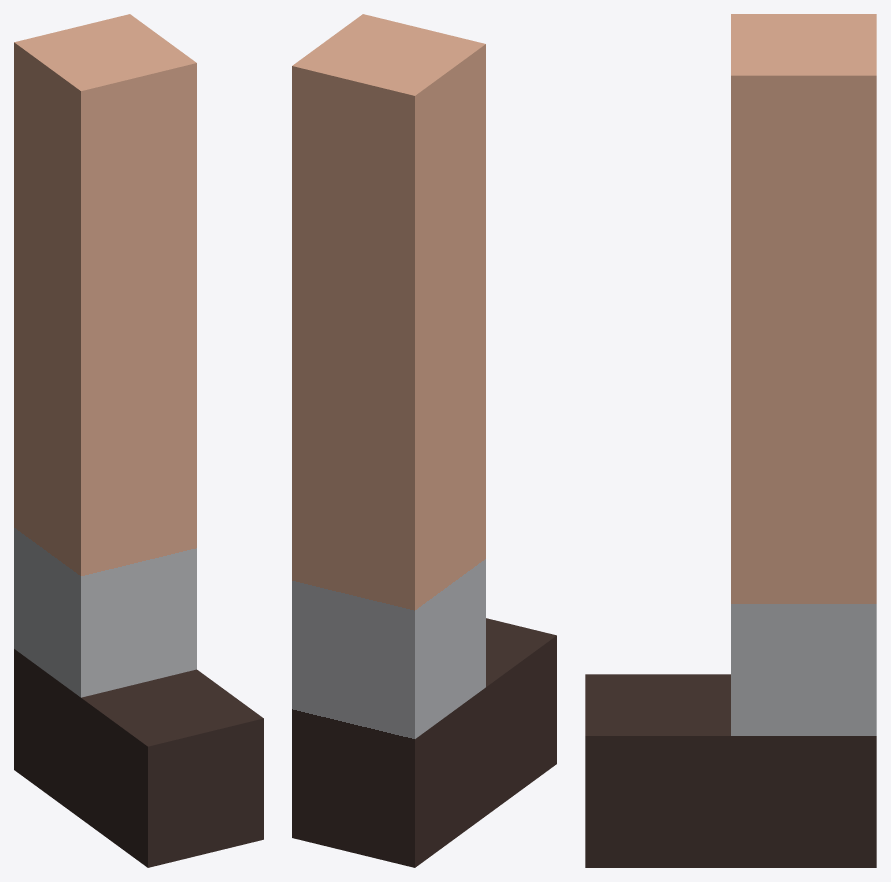
File: voxperson_shin_r.fbx
The picture shows the model from 3 angles, left to right: view 1: azimuth 30°, elevation 25°; view 2: azimuth 150°, elevation 25°; view 3: azimuth 270°, elevation 25°; orthographic projection. The views are drawn at different scales.
Visible parts, largest first — view 1: Matrix_11; view 2: Matrix_11; view 3: Matrix_11.
Part boxes in pixels (x1,y1,x2,y2): Matrix_11: (14,14,263,867); Matrix_11: (292,14,556,867); Matrix_11: (585,14,876,867).
Bounding box in the file's own units: 1 × 6 × 2.
